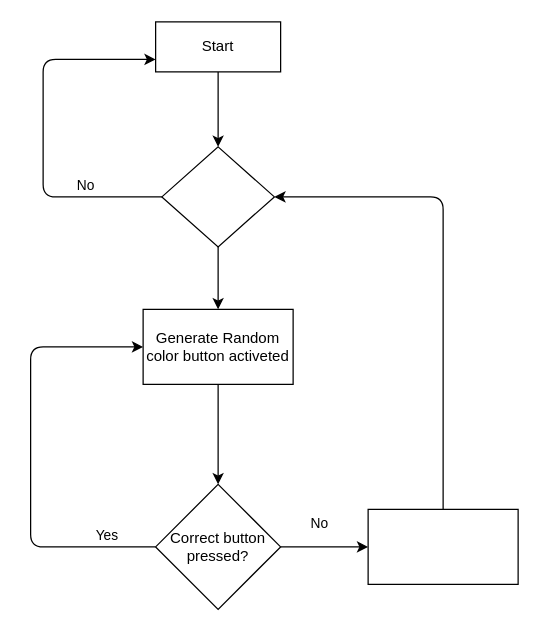
Image size: 540x631. Some labels were removed from this diagram. Each missing label, with the centre of its shape:
"Game Over" belongs at pixel 442 546.
"Press any key" belongs at pixel 217 196.
